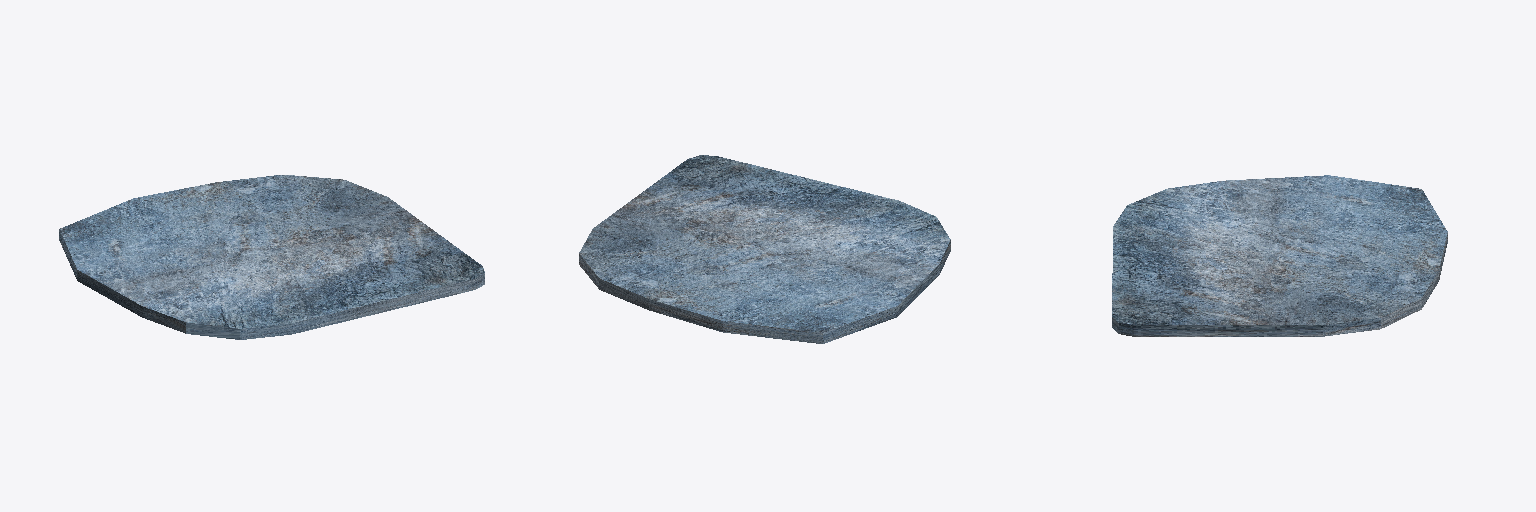
The picture shows the model from 3 angles: view 1: azimuth 30°, elevation 25°; view 2: azimuth 150°, elevation 25°; view 3: azimuth 270°, elevation 25°; orthographic projection.
Visible parts, largest first — view 1: pasted__pasted__pCube10 pasted__group5 group7; view 2: pasted__pasted__pCube10 pasted__group5 group7; view 3: pasted__pasted__pCube10 pasted__group5 group7.
Boxes of the visible parts, box(x1,y1,x2,y2) form: pasted__pasted__pCube10 pasted__group5 group7: box(59, 175, 484, 339); pasted__pasted__pCube10 pasted__group5 group7: box(579, 155, 950, 343); pasted__pasted__pCube10 pasted__group5 group7: box(1112, 175, 1447, 336).
Size of the model in its own units: 33.95 by 1.21 by 32.04.
1 materials, 1 textured.